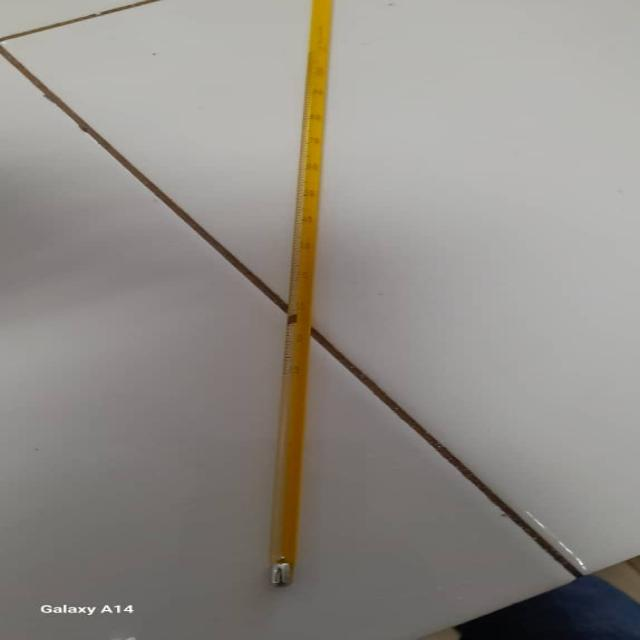Thermometer: (262, 11, 355, 602)
